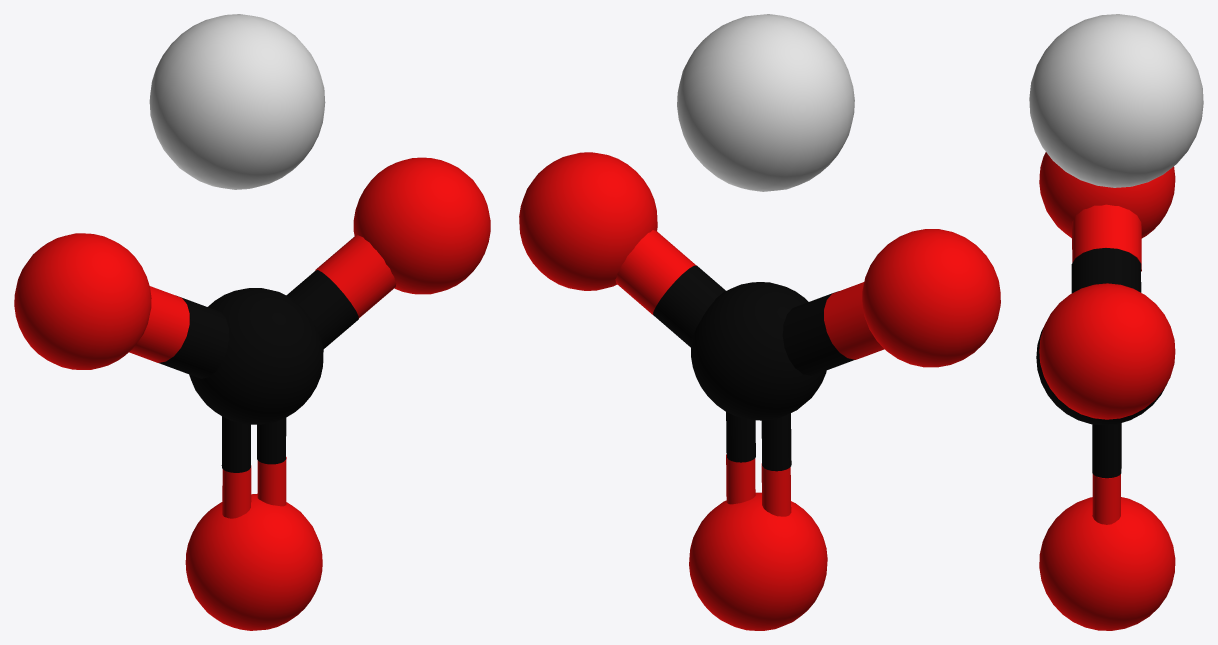
Rendered from uploads_files_2040085_chalk.FBX.
The picture shows the model from 3 angles, left to right: view 1: azimuth 30°, elevation 25°; view 2: azimuth 150°, elevation 25°; view 3: azimuth 270°, elevation 25°; orthographic projection.
Parts seen in each view (by area): view 1: Sphere074, Sphere073, Sphere071, Sphere072, Sphere070, Cylinder131, Cylinder134, Cylinder132, Cylinder133, Cylinder129, Cylinder130, Cylinder136 (+1 smaller); view 2: Sphere074, Sphere073, Sphere071, Sphere072, Sphere070, Cylinder131, Cylinder134, Cylinder132, Cylinder133, Cylinder129, Cylinder135, Cylinder130 (+1 smaller); view 3: Sphere074, Sphere072, Sphere071, Sphere073, Cylinder133, Cylinder134, Cylinder135, Cylinder136, Sphere070.
Boxes of the visible parts, x1,y1,x2,y2 form: Sphere074: (149,14,325,189); Sphere073: (14,233,151,369); Sphere071: (185,493,322,630); Sphere072: (353,157,490,294); Sphere070: (189,288,323,424); Cylinder131: (315,235,396,318); Cylinder134: (159,295,229,378); Cylinder132: (286,270,358,349); Cylinder133: (129,286,189,362); Cylinder129: (221,416,250,472); Cylinder130: (222,465,251,518); Cylinder136: (257,457,286,506); Sphere074: (677,14,854,191); Sphere073: (862,229,1000,367); Sphere071: (689,492,827,630); Sphere072: (519,152,657,290); Sphere070: (691,282,826,420); Cylinder131: (615,230,696,314); Cylinder134: (782,291,854,375); Cylinder132: (653,265,725,347); Cylinder133: (824,282,884,359); Cylinder129: (761,413,791,471); Cylinder135: (726,412,755,462); Cylinder130: (761,463,791,516); Sphere074: (1029,14,1203,187); Sphere072: (1039,283,1175,419); Sphere071: (1039,497,1175,630); Sphere073: (1039,152,1175,238); Cylinder133: (1072,204,1141,271); Cylinder134: (1071,248,1141,293); Cylinder135: (1092,423,1121,478); Cylinder136: (1092,474,1120,524); Sphere070: (1036,327,1167,424).
Bounding box in the file's own units: 35.99 × 45.2 × 11.96.
